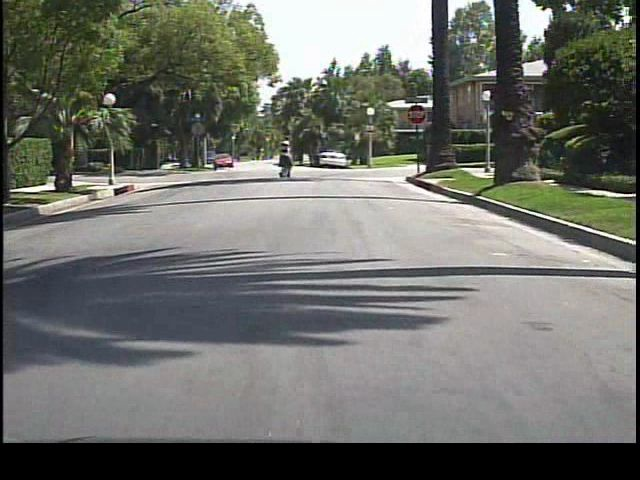person: (275, 136, 296, 181)
